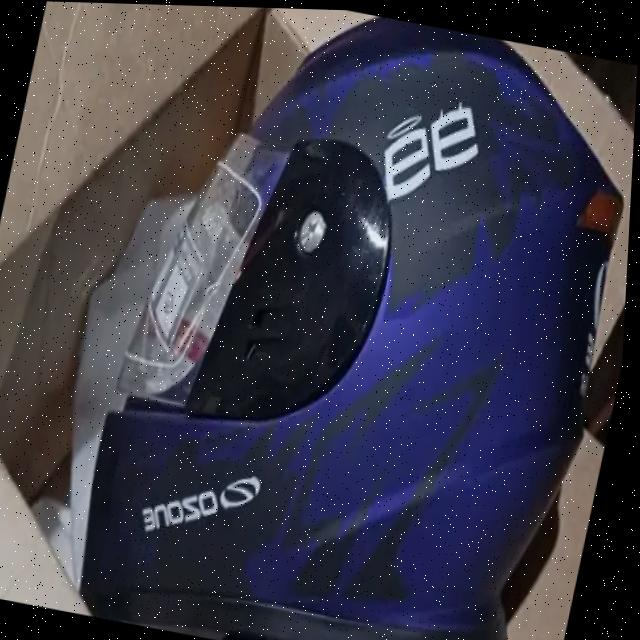Helmet: (60, 2, 634, 640)
